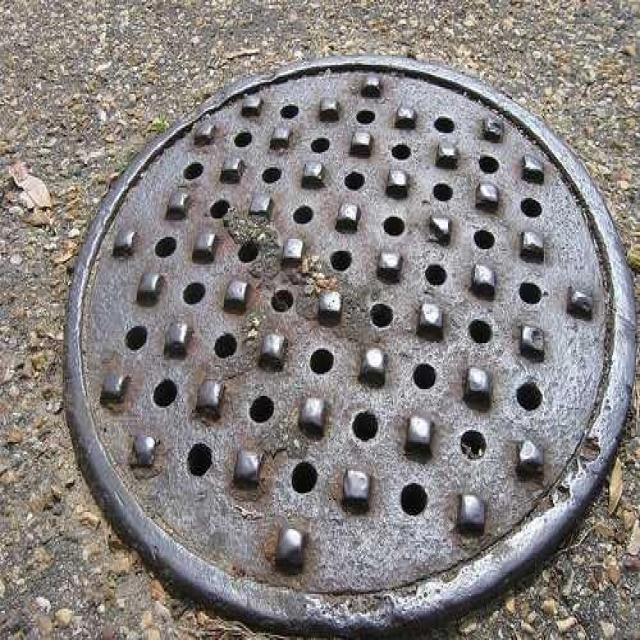manhole: (56, 57, 634, 634)
